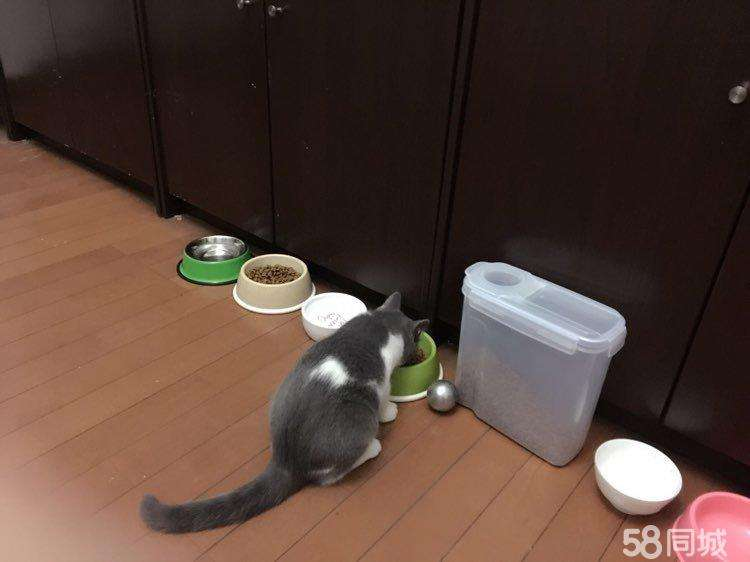cat: (140, 286, 428, 535)
